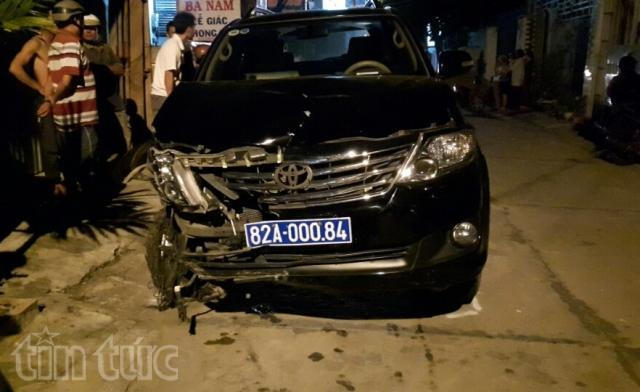plate: (244, 214, 355, 247)
